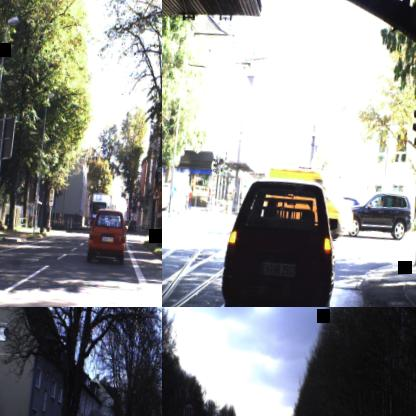keep right: (171, 186, 176, 198)
priority at next intersection: (150, 184, 161, 202)
speed limit 100: (179, 398, 197, 416)
